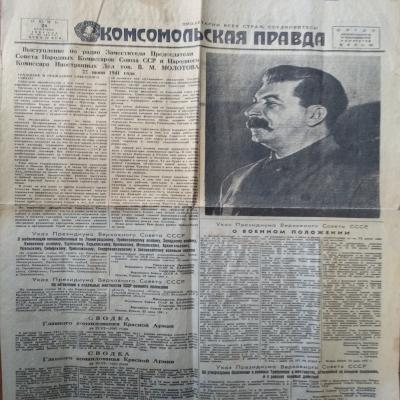printed_products: (2, 4, 400, 400)
